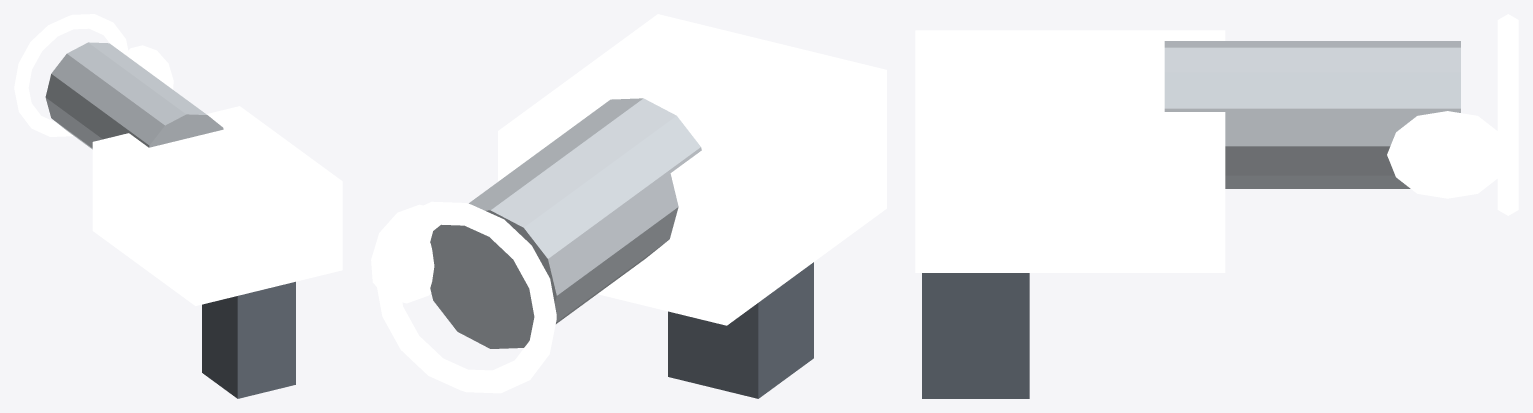
The model's file is pistola_7.glb.
The picture shows the model from 3 angles, left to right: view 1: azimuth 30°, elevation 25°; view 2: azimuth 150°, elevation 25°; view 3: azimuth 270°, elevation 25°; orthographic projection. The views are drawn at different scales.
Visible parts, largest first — view 1: cuerpo, cañon, empuñadura, bobina, punta; view 2: cuerpo, cañon, bobina, empuñadura, punta; view 3: cuerpo, cañon, empuñadura, punta, bobina.
Part boxes in pixels (x1,y1,x2,y2): cuerpo: [92, 106, 342, 305]; cañon: [45, 42, 223, 149]; empuñadura: [202, 281, 295, 398]; bobina: [14, 14, 128, 136]; punta: [125, 45, 173, 89]; cuerpo: [498, 14, 886, 325]; cañon: [430, 98, 701, 348]; bobina: [375, 201, 556, 393]; empuñadura: [668, 262, 813, 398]; punta: [371, 204, 440, 303]; cuerpo: [915, 30, 1225, 272]; cañon: [1164, 41, 1460, 188]; empuñadura: [922, 273, 1029, 398]; punta: [1387, 111, 1505, 198]; bobina: [1497, 14, 1518, 215].
Size of the model in its own units: 0.3819 by 0.5829 by 0.9.
